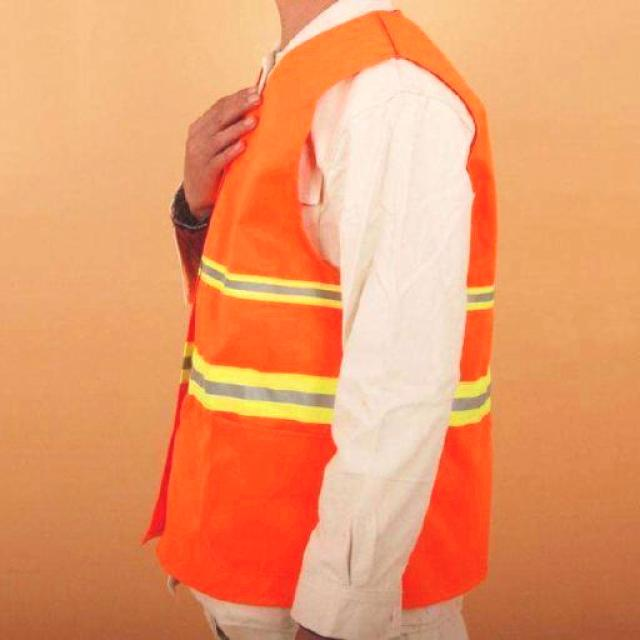hand_noglove: (174, 78, 268, 178)
vest: (140, 12, 500, 612)
